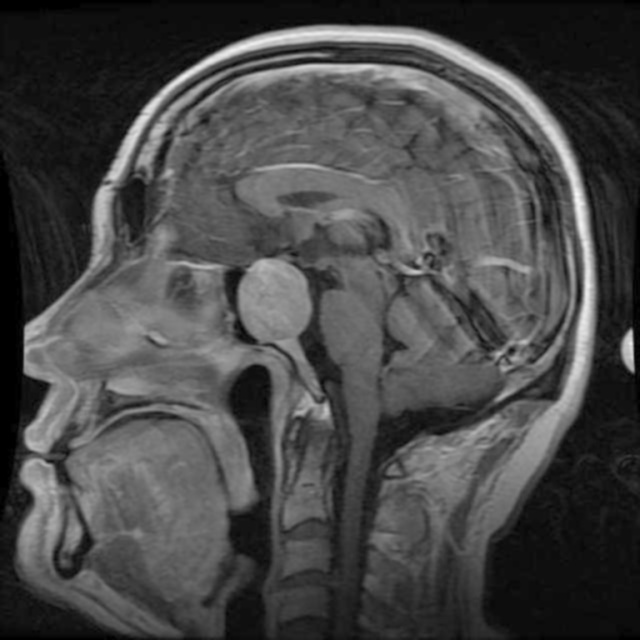no tumor: (241, 255, 309, 341)
